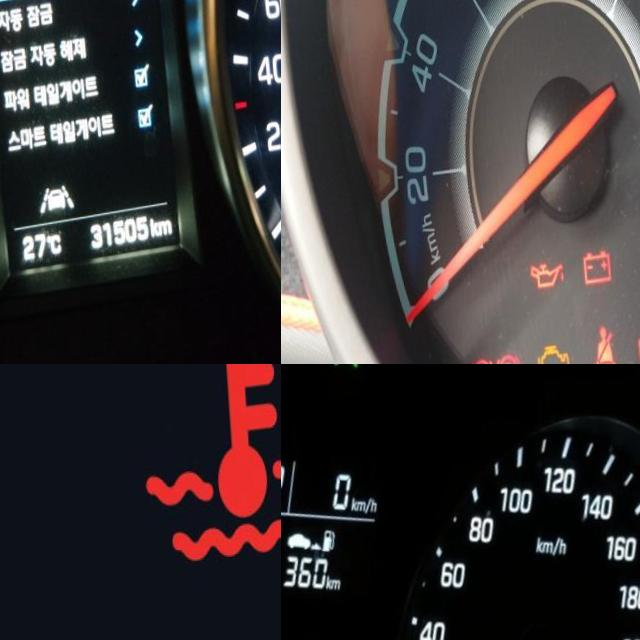Doors: (629, 331, 640, 364)
Engine cooling system: (129, 364, 281, 572)
SideLamp: (328, 364, 361, 378)
